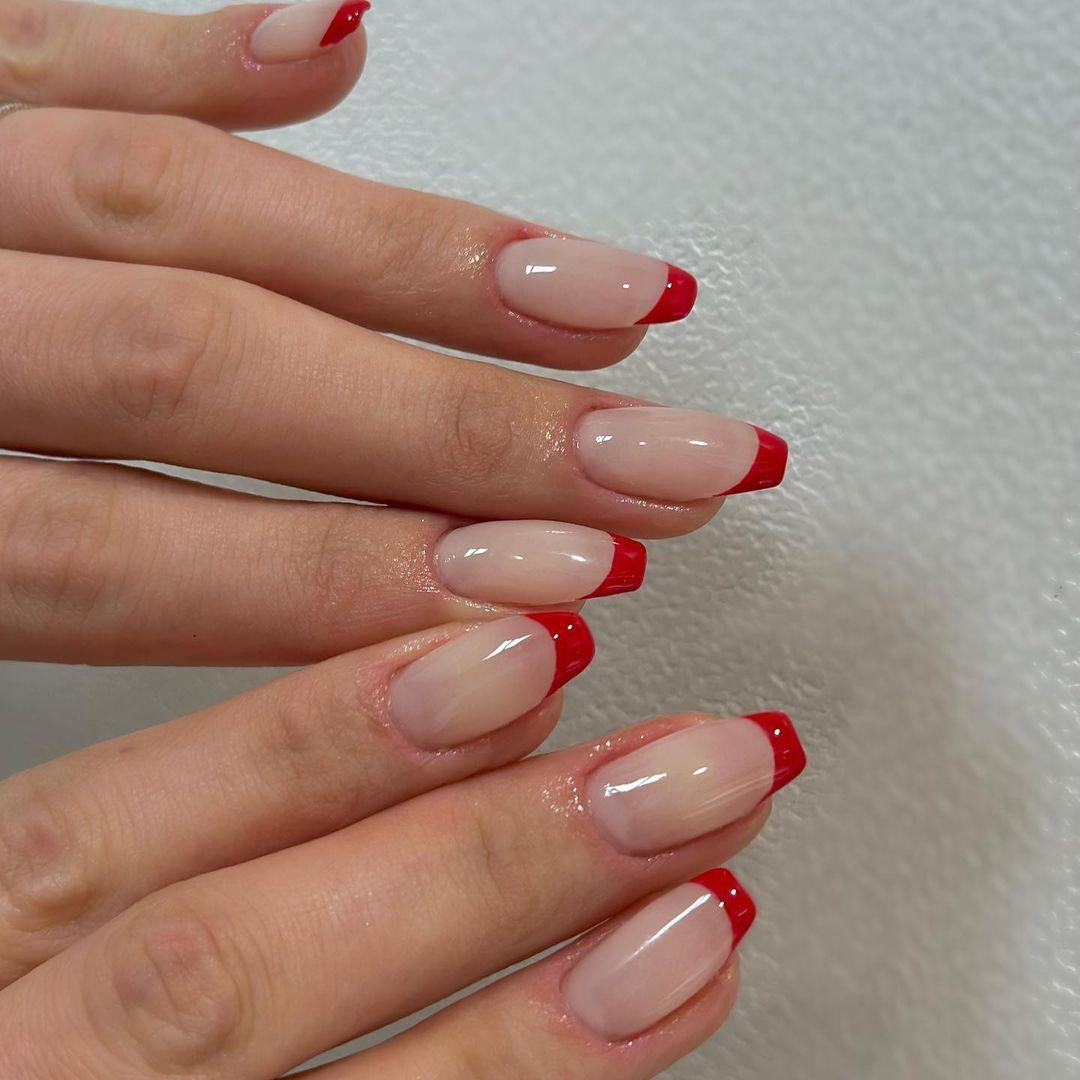nail: (558, 865, 756, 1042), (581, 708, 806, 855), (385, 608, 594, 751), (571, 402, 788, 502), (493, 232, 697, 331), (429, 517, 646, 605), (245, 0, 370, 66)
